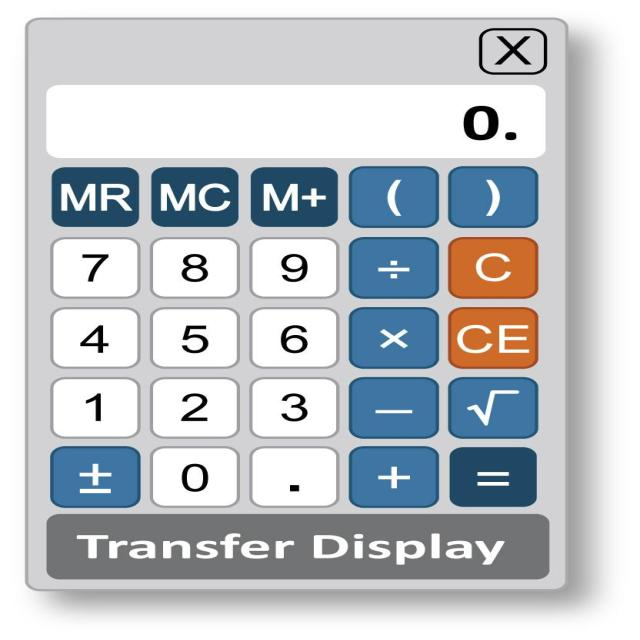Calculator: (0, 0, 600, 636)
